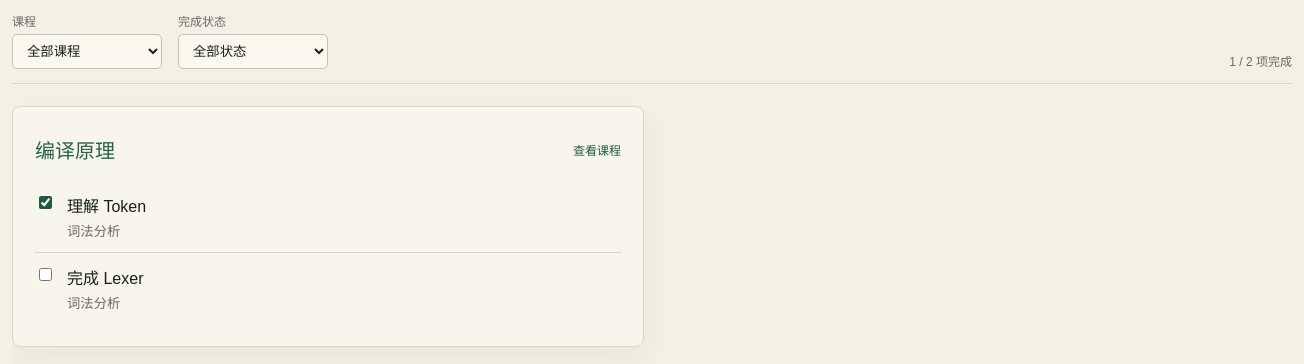
Test: 工作区页面 › 任务页可以按完成状态筛选
The image size is (1304, 364).
Select "待完成" in the dropdown labelled "完成状态" at (253, 52), box 178,34 -> 328,69
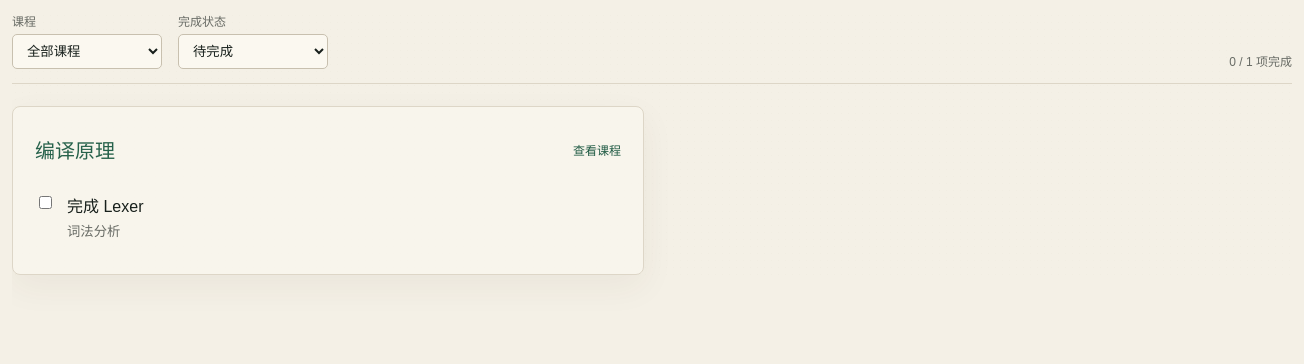
Expected: the text "完成 Lexer" is shown, 67,193 -> 144,217
Expected: the text "理解 Token" is gone
